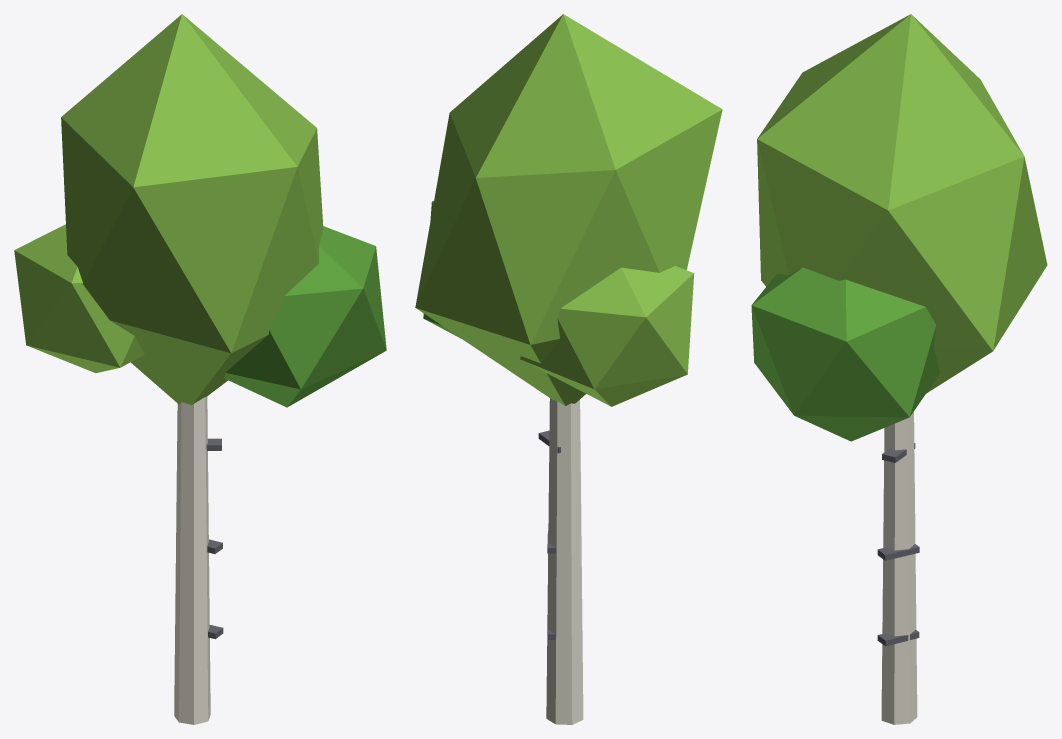
The model's file is nature2_birch_tree.glb.
The picture shows the model from 3 angles, left to right: view 1: azimuth 30°, elevation 25°; view 2: azimuth 150°, elevation 25°; view 3: azimuth 270°, elevation 25°; orthographic projection.
Parts seen in each view (by area): view 1: birch_tree; view 2: birch_tree; view 3: birch_tree.
Part boxes in pixels (x1,y1,x2,y2): birch_tree: [14, 14, 386, 724]; birch_tree: [415, 14, 722, 724]; birch_tree: [751, 14, 1047, 724].
Size of the model in its own units: 2.22 by 4.93 by 1.89.
